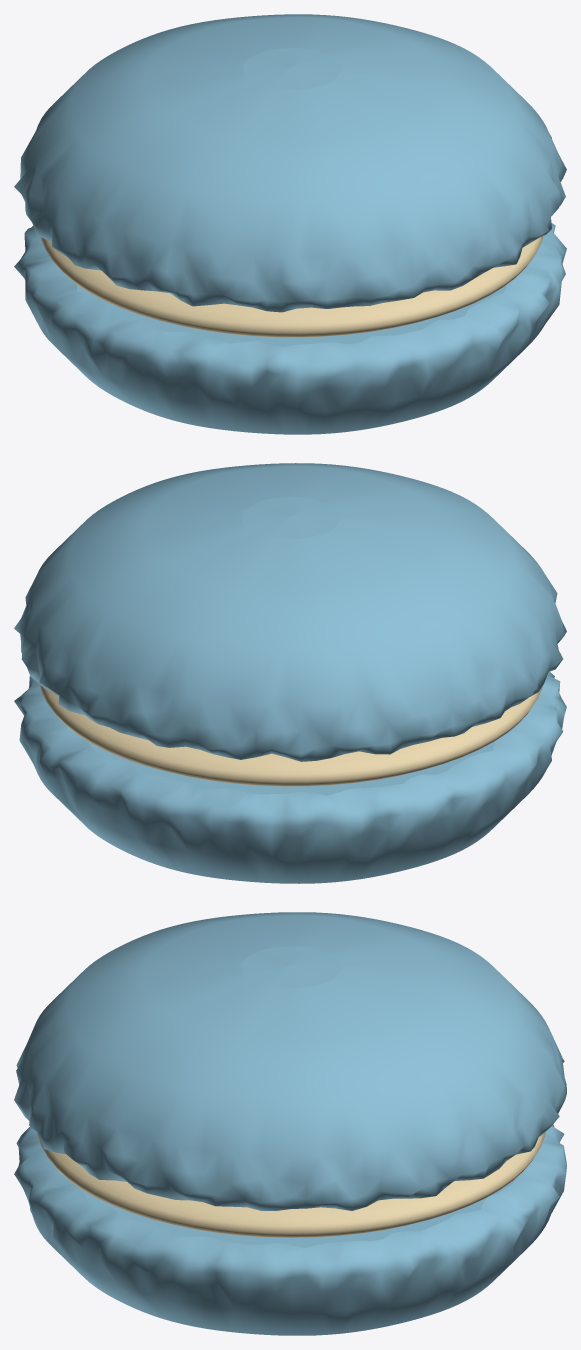
3 renders of one model, top to bottom at view 1: azimuth 30°, elevation 25°; view 2: azimuth 150°, elevation 25°; view 3: azimuth 270°, elevation 25°, orthographic.
Visible parts, largest first — view 1: Top domed shell with rough feet, Bottom domed shell with rough feet, Thick vanilla filling layer; view 2: Top domed shell with rough feet, Bottom domed shell with rough feet, Thick vanilla filling layer; view 3: Top domed shell with rough feet, Bottom domed shell with rough feet, Thick vanilla filling layer.
Part boxes in pixels (bbox=[...]): Top domed shell with rough feet: bbox=[14, 14, 566, 312]; Bottom domed shell with rough feet: bbox=[14, 223, 566, 434]; Thick vanilla filling layer: bbox=[41, 236, 543, 337]; Top domed shell with rough feet: bbox=[14, 463, 566, 761]; Bottom domed shell with rough feet: bbox=[14, 672, 566, 883]; Thick vanilla filling layer: bbox=[39, 684, 542, 786]; Top domed shell with rough feet: bbox=[14, 912, 566, 1210]; Bottom domed shell with rough feet: bbox=[14, 1124, 566, 1335]; Thick vanilla filling layer: bbox=[37, 1132, 545, 1237].
Size of the model in its own units: 0.0447 by 0.0282 by 0.0445.
